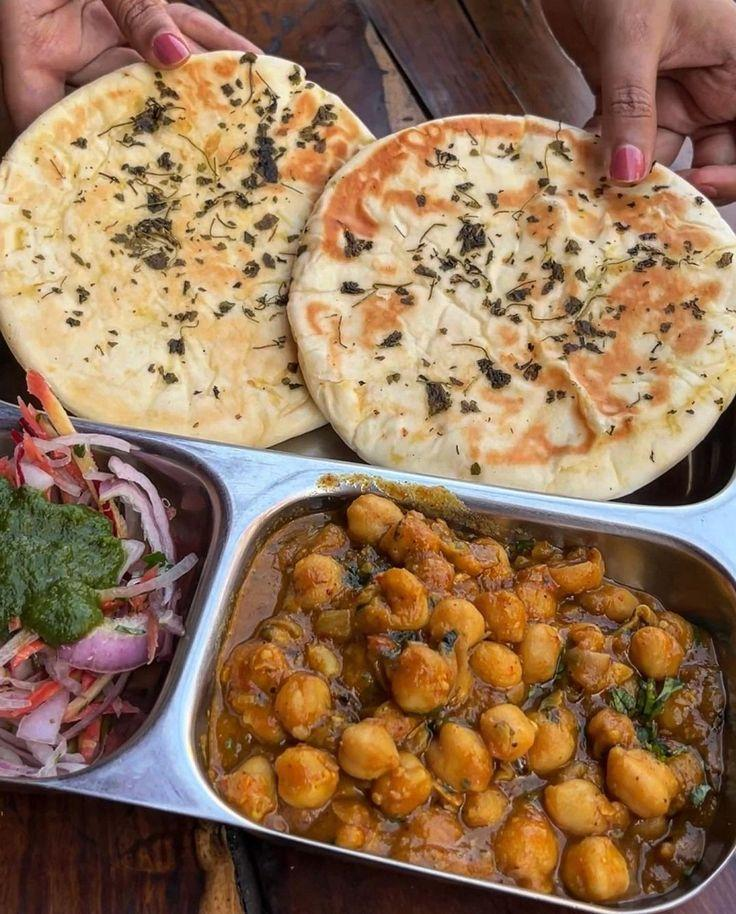chole: (262, 509, 730, 876)
salad: (0, 455, 158, 749)
